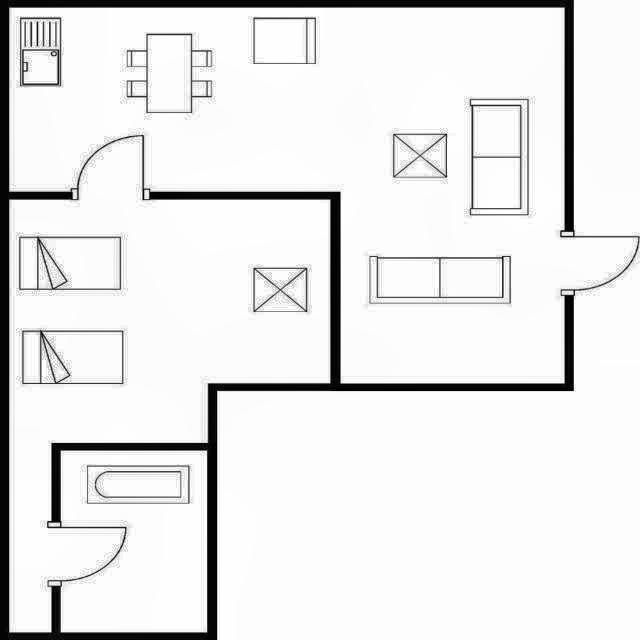room: (9, 8, 565, 383), (9, 200, 330, 632), (61, 451, 208, 632)
